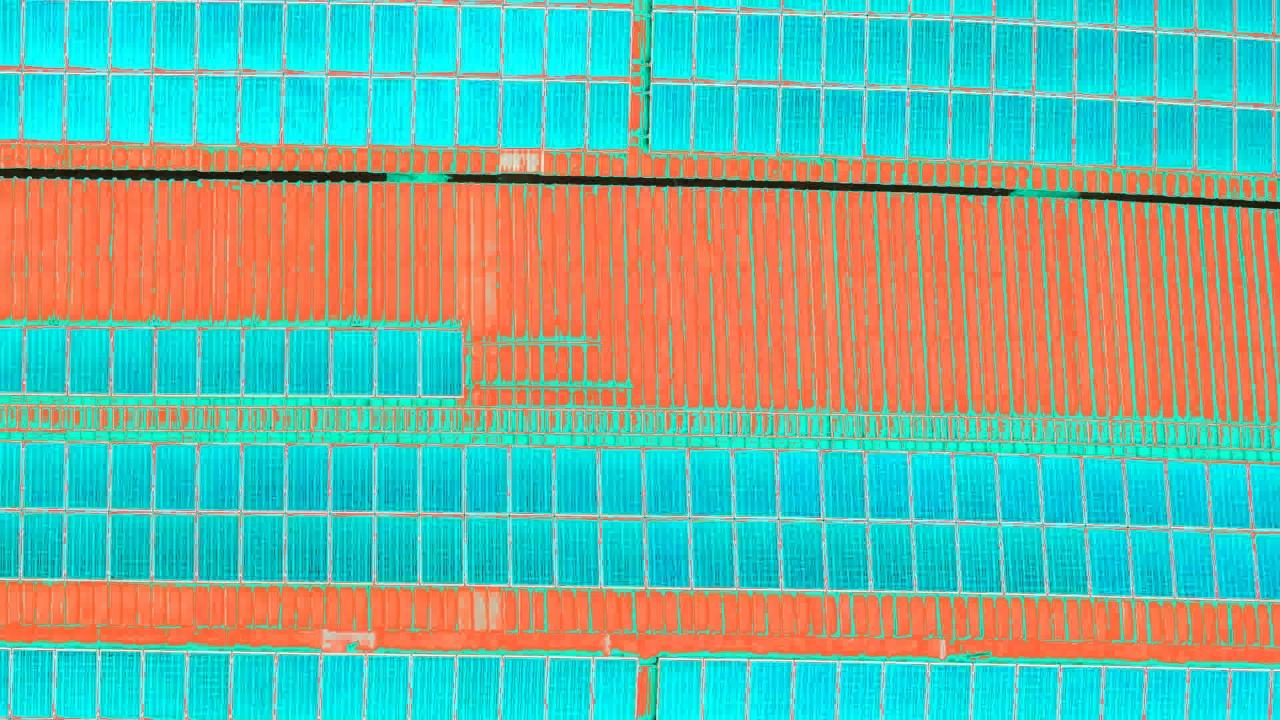dirty: (1, 442, 1280, 603), (651, 10, 1278, 170), (9, 2, 628, 146), (9, 646, 612, 720), (5, 328, 467, 392)
